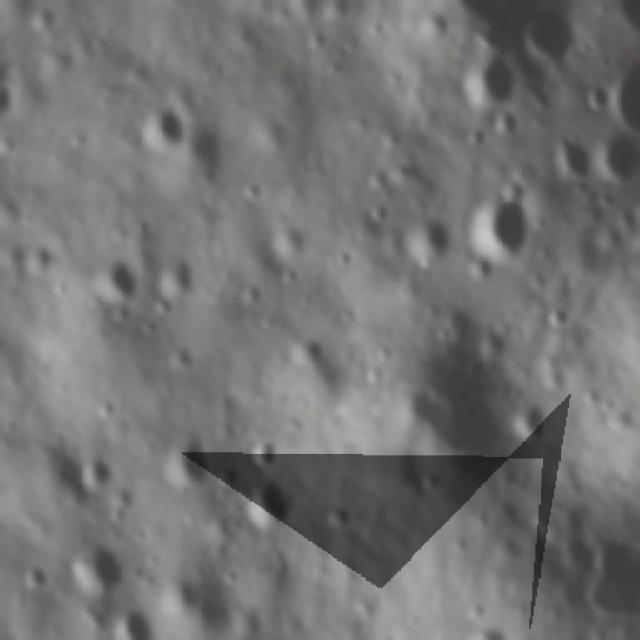crater: (462, 187, 540, 267), (512, 0, 592, 78), (583, 524, 640, 628), (58, 531, 131, 606), (150, 426, 216, 500), (80, 238, 142, 316), (454, 49, 526, 116), (228, 473, 300, 539), (128, 92, 190, 162), (601, 42, 640, 140), (152, 248, 208, 307), (540, 124, 594, 184), (399, 208, 453, 267), (592, 126, 640, 192), (506, 395, 560, 450), (102, 597, 162, 640), (282, 331, 328, 383), (75, 447, 120, 499), (246, 433, 286, 481), (18, 562, 52, 592), (0, 77, 15, 126)
